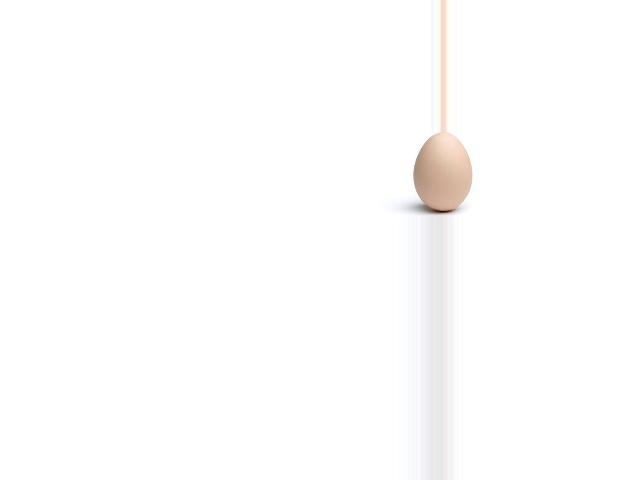egg: (413, 132, 472, 212)
